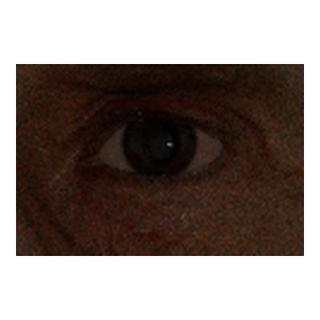pupil: (141, 124, 176, 159)
